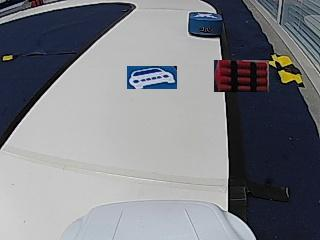prop: (188, 12, 223, 38)
